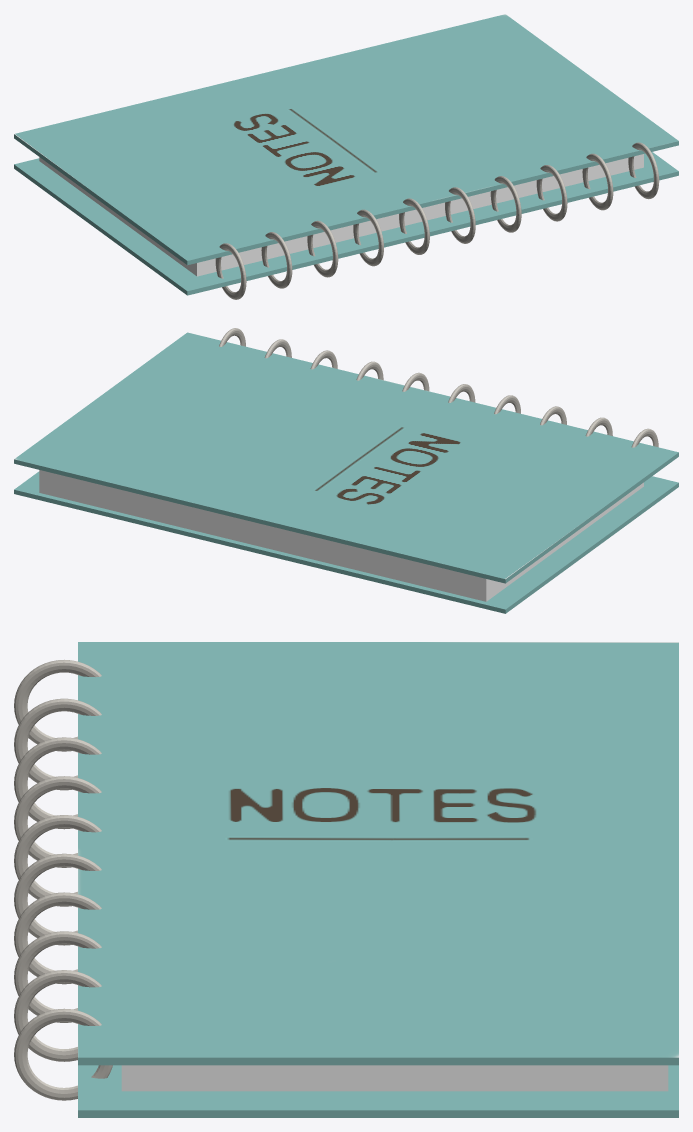
File: notebook1.fbx
3 renders of one model, top to bottom at view 1: azimuth 30°, elevation 25°; view 2: azimuth 150°, elevation 25°; view 3: azimuth 270°, elevation 25°, orthographic. The views are drawn at different scales.
Parts seen in each view (by area): view 1: Cube; view 2: Cube; view 3: Cube.
Part boxes in pixels (bbox=[...]): Cube: bbox=[14, 14, 678, 299]; Cube: bbox=[14, 328, 678, 613]; Cube: bbox=[14, 642, 678, 1117].
Size of the model in its own units: 543 by 55.47 by 367.
